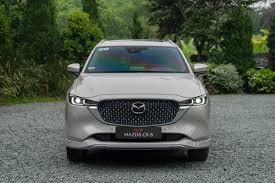mazda: (124, 98, 149, 117)
